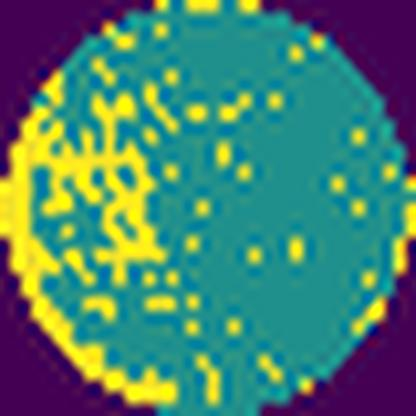Edge-Loc: (0, 65, 180, 406)
